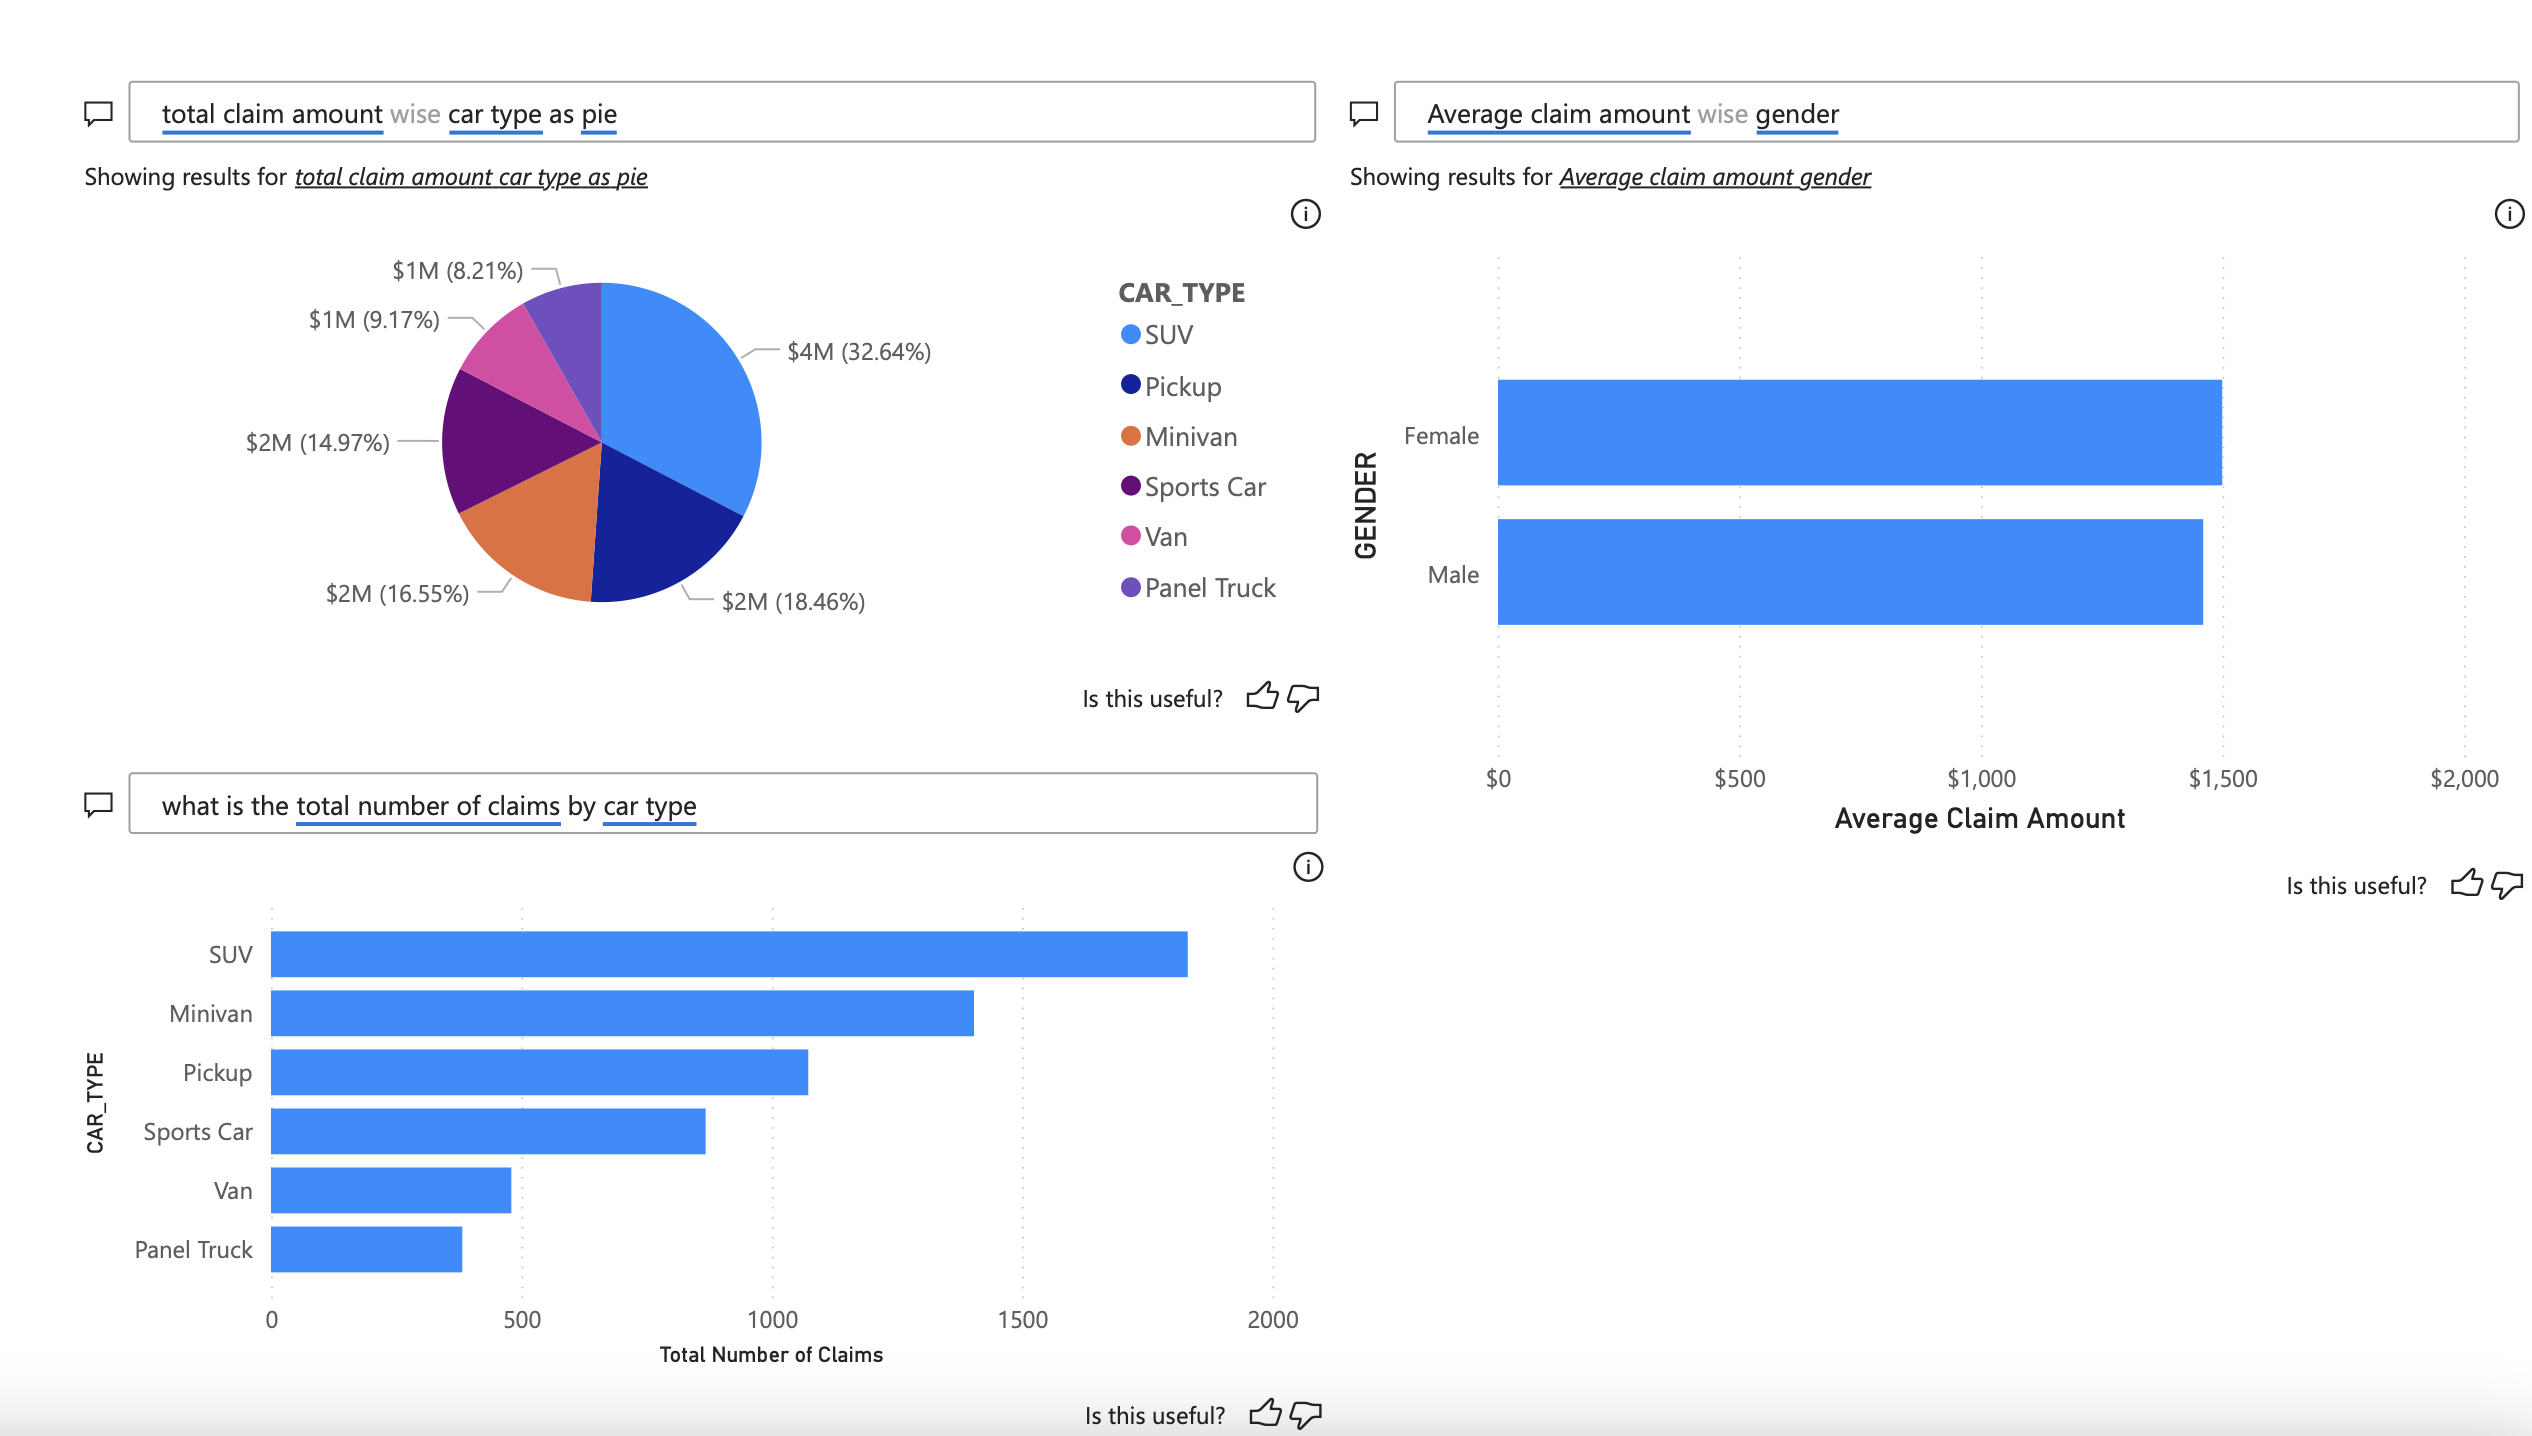

The page's visual inventory and layout, read from the dashboard file:
{"tool":"powerbi","page":{"name":"Q&A","canvas":[1280,720],"ordinal":2},"visuals":[{"type":"qnaVisual","box":[675.2,12.8,604.8,440.8],"z":0},{"type":"qnaVisual","box":[39.7,12.8,635.5,347.2],"z":1},{"type":"qnaVisual","box":[39.7,360,636.8,360],"z":2}]}

Visuals, with their boxes in screenshot pixels (x1, y1, x2, y2), scaled from the page's 1280x720 canvas onto the 2532x1436 screenshot:
qnaVisual: 1336/26/2531/905
qnaVisual: 79/26/1336/718
qnaVisual: 79/718/1338/1435
